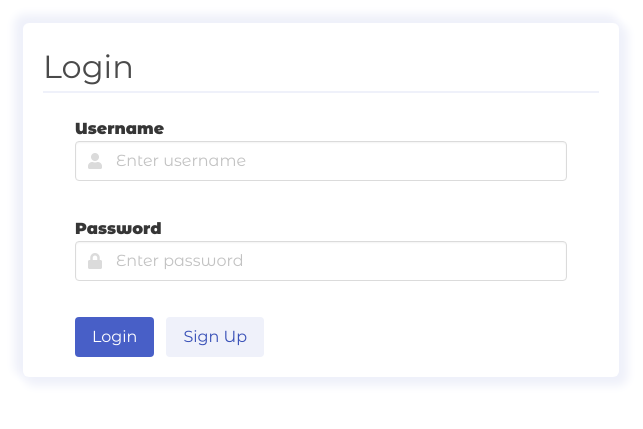
it: <Login /> › Goes to register page when Sign Up button is clicked
Click the button with test id "SignUpButton" at (215, 337), box left=166, top=317, right=264, bottom=357
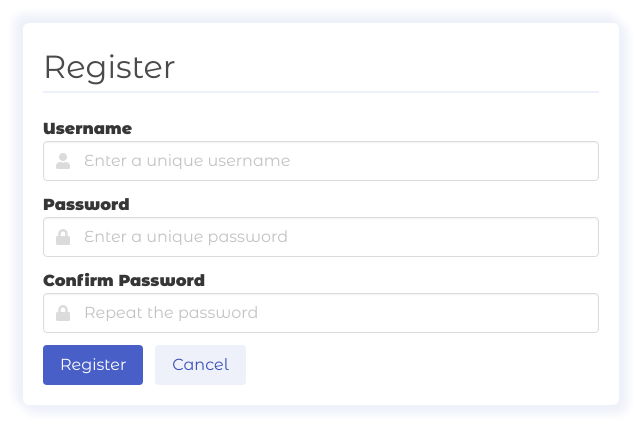
Now the element with test id "Register" is shown
